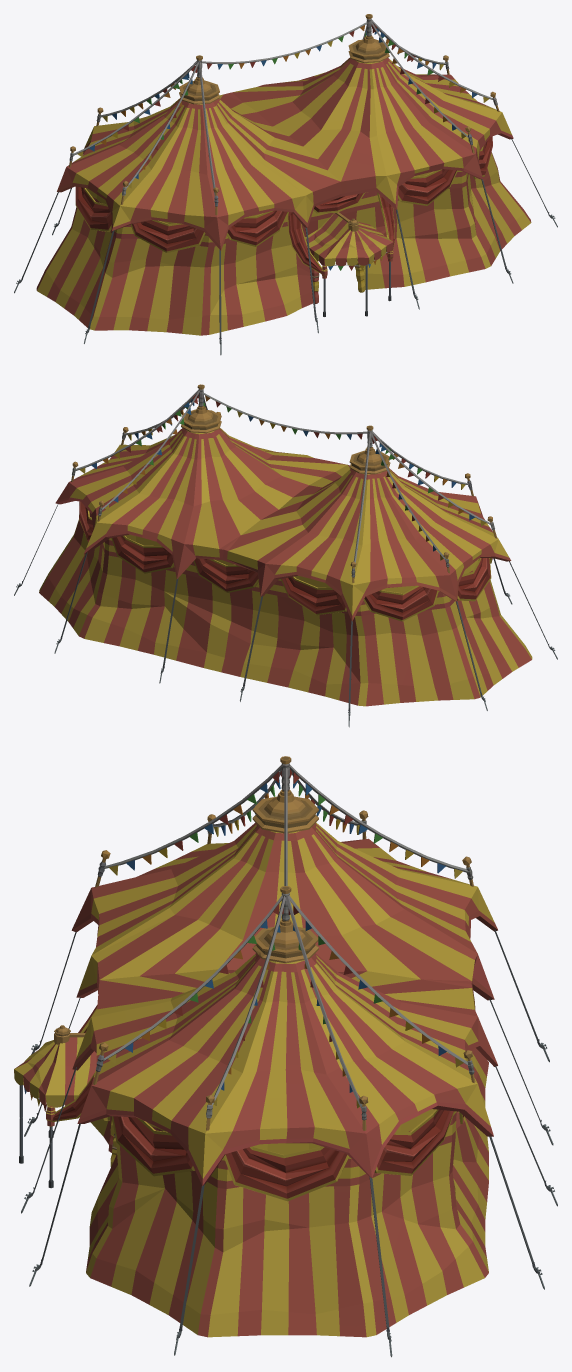
The model's file is tent-large.glb.
3 renders of one model, top to bottom at view 1: azimuth 30°, elevation 25°; view 2: azimuth 150°, elevation 25°; view 3: azimuth 270°, elevation 25°, orthographic. The views are drawn at different scales.
Visible parts, largest first — view 1: SM_Prop_Tent_Large_01; view 2: SM_Prop_Tent_Large_01; view 3: SM_Prop_Tent_Large_01.
Boxes of the visible parts, x1=… form: SM_Prop_Tent_Large_01: x1=14, y1=14, x2=557, y2=355; SM_Prop_Tent_Large_01: x1=14, y1=384, x2=557, y2=727; SM_Prop_Tent_Large_01: x1=14, y1=756, x2=557, y2=1357.
Bounding box in the file's own units: 2659 × 1209 × 1678.
Materials: 1 (1 with a texture image).
